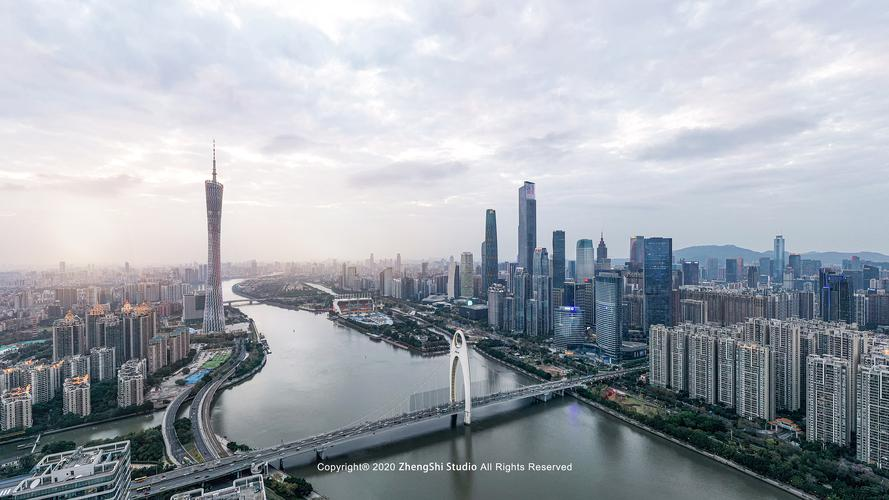buildings: (719, 238, 873, 443), (179, 146, 240, 346), (624, 229, 678, 353)
